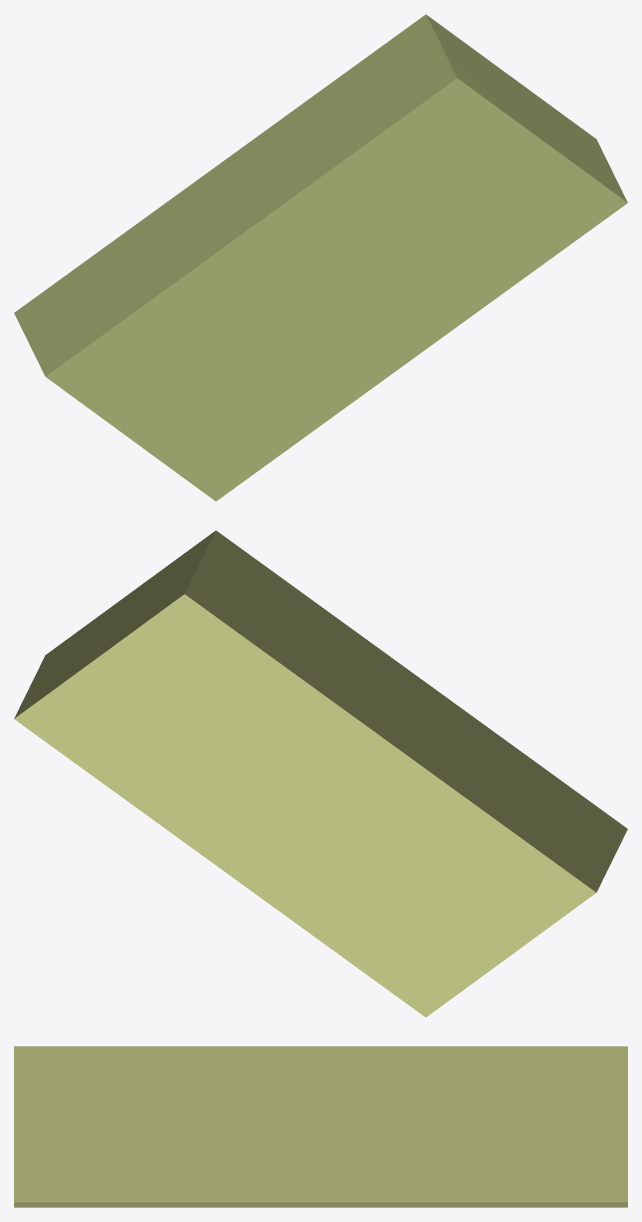
3 views of the same model, one above another, from view 1: azimuth 30°, elevation 25°; view 2: azimuth 150°, elevation 25°; view 3: azimuth 270°, elevation 25° (orthographic). The views are drawn at different scales.
Visible parts, largest first — view 1: 0_1_1_3_2_3_0_3_0_1; view 2: 0_1_1_3_2_3_0_3_0_1; view 3: 0_1_1_3_2_3_0_3_0_1.
Boxes of the visible parts, box(x1,y1,x2,y2) form: 0_1_1_3_2_3_0_3_0_1: box(14, 14, 627, 501); 0_1_1_3_2_3_0_3_0_1: box(14, 530, 627, 1017); 0_1_1_3_2_3_0_3_0_1: box(14, 1046, 627, 1207).
Size of the model in its own units: 9 by 5.23 by 6.
